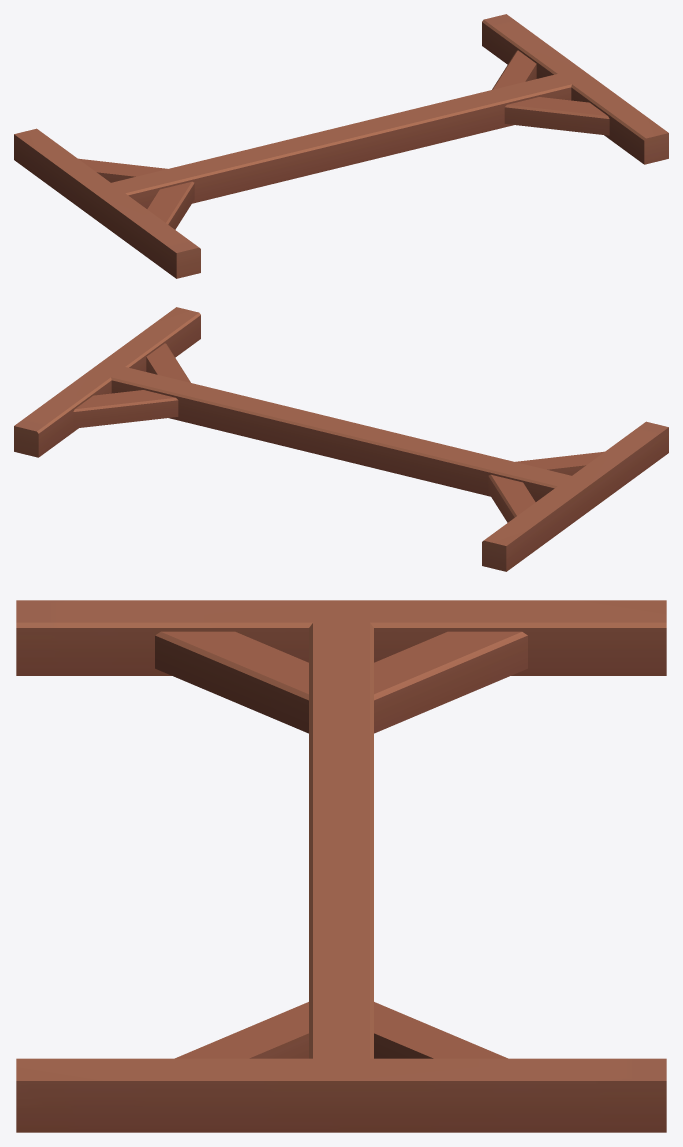
The model's file is scaffold_beams_connected.glb.
3 renders of one model, top to bottom at view 1: azimuth 30°, elevation 25°; view 2: azimuth 150°, elevation 25°; view 3: azimuth 270°, elevation 25°, orthographic. The views are drawn at different scales.
Visible parts, largest first — view 1: scaffold_beams_connected; view 2: scaffold_beams_connected; view 3: scaffold_beams_connected.
Boxes of the visible parts, <box> form: scaffold_beams_connected: <box>14,14,668,278</box>; scaffold_beams_connected: <box>14,307,668,571</box>; scaffold_beams_connected: <box>16,600,666,1132</box>.
Size of the model in its own units: 7 by 0.3504 by 4.
Materials: 1 (1 with a texture image).
